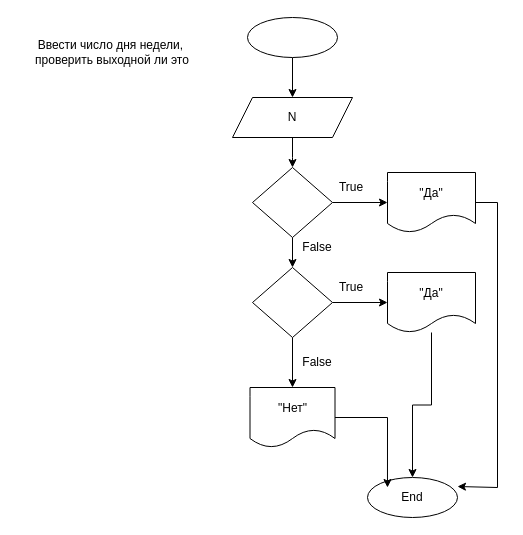
Image size: 523x535. Some labels were removed from this diagram. The shapes that lost their labels are listed below. From the top down, each one's centre as x and y in pixels, then its label:
At point 292,37: "Start".
At point 292,202: "N=6".
At point 292,302: "N=7".
